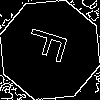F: (25, 25, 78, 67)
